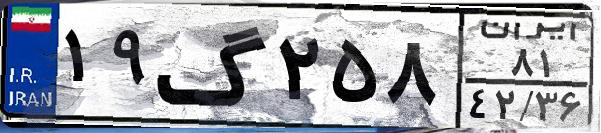1: (57, 26, 110, 100), (537, 27, 568, 80)
2: (270, 28, 330, 110), (495, 70, 520, 125)
3: (535, 70, 560, 125)
4: (470, 70, 495, 125)
5: (330, 28, 385, 110)
6: (560, 70, 590, 125)
8: (385, 28, 445, 110), (508, 27, 537, 80)
9: (110, 28, 156, 98)
گ: (156, 12, 270, 120)
